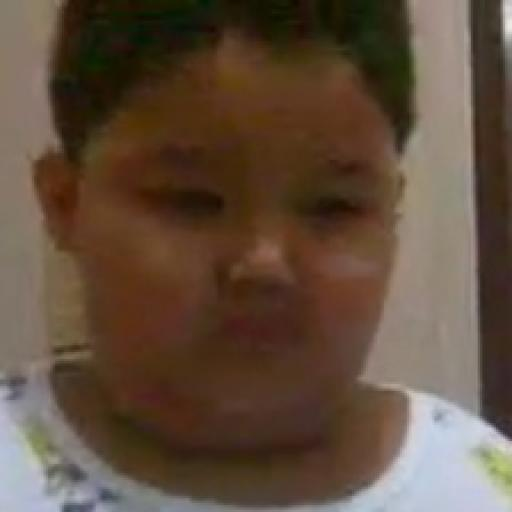Autism: (25, 0, 406, 452)
